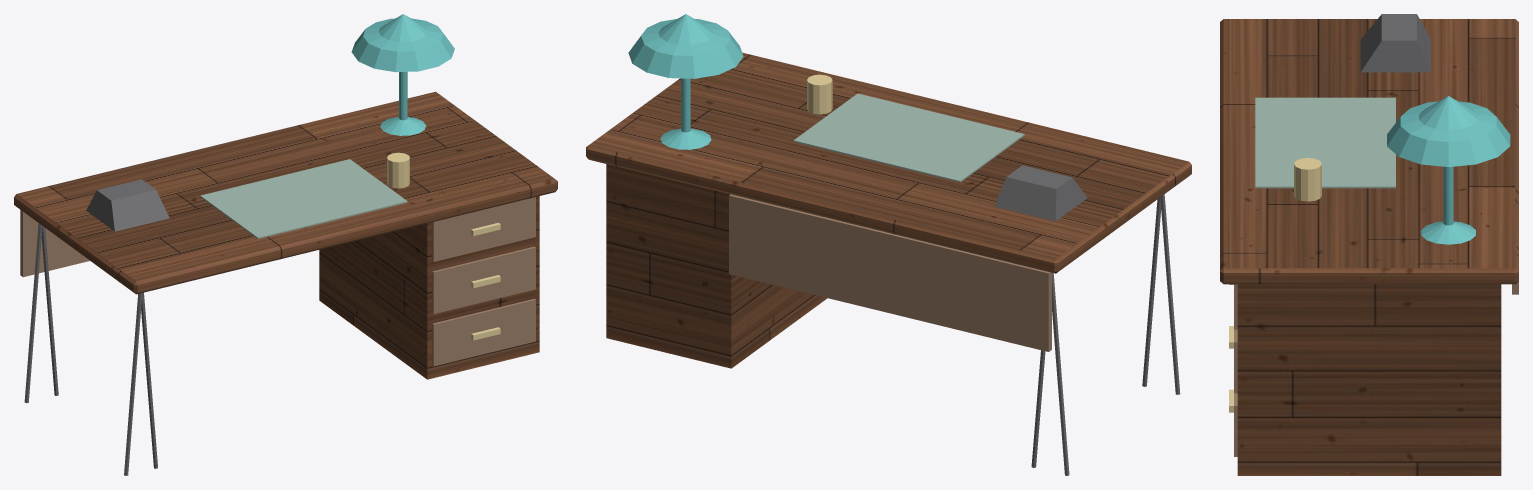
The model's file is exec_desk.glb.
3 renders of one model, left to right at view 1: azimuth 30°, elevation 25°; view 2: azimuth 150°, elevation 25°; view 3: azimuth 270°, elevation 25°, orthographic. The views are drawn at different scales.
Parts seen in each view (by area): view 1: exec_desk_walnut, exec_desk_dkwood, exec_desk_vinyl_g, exec_desk_dark, exec_desk_teal, exec_desk_brass, exec_desk_gold; view 2: exec_desk_walnut, exec_desk_dkwood, exec_desk_vinyl_g, exec_desk_dark, exec_desk_teal, exec_desk_brass; view 3: exec_desk_walnut, exec_desk_vinyl_g, exec_desk_teal, exec_desk_dark, exec_desk_brass, exec_desk_dkwood.
Boxes of the visible parts, x1=… form: exec_desk_walnut: x1=14, y1=91, x2=557, y2=379; exec_desk_dkwood: x1=20, y1=197, x2=535, y2=366; exec_desk_vinyl_g: x1=200, y1=159, x2=407, y2=238; exec_desk_dark: x1=24, y1=179, x2=169, y2=475; exec_desk_teal: x1=351, y1=14, x2=454, y2=135; exec_desk_brass: x1=387, y1=152, x2=409, y2=188; exec_desk_gold: x1=471, y1=223, x2=500, y2=340; exec_desk_walnut: x1=586, y1=52, x2=1191, y2=368; exec_desk_dkwood: x1=729, y1=194, x2=1051, y2=351; exec_desk_vinyl_g: x1=793, y1=93, x2=1024, y2=182; exec_desk_dark: x1=994, y1=165, x2=1180, y2=475; exec_desk_teal: x1=628, y1=14, x2=743, y2=149; exec_desk_brass: x1=807, y1=74, x2=832, y2=114; exec_desk_walnut: x1=1220, y1=19, x2=1518, y2=475; exec_desk_vinyl_g: x1=1255, y1=97, x2=1395, y2=188; exec_desk_teal: x1=1387, y1=96, x2=1510, y2=244; exec_desk_dark: x1=1360, y1=14, x2=1430, y2=72; exec_desk_brass: x1=1294, y1=158, x2=1321, y2=201; exec_desk_dkwood: x1=1234, y1=281, x2=1518, y2=456.
Bounding box in the file's own units: 1.7 × 1.2 × 0.85.
7 materials, 1 textured.
